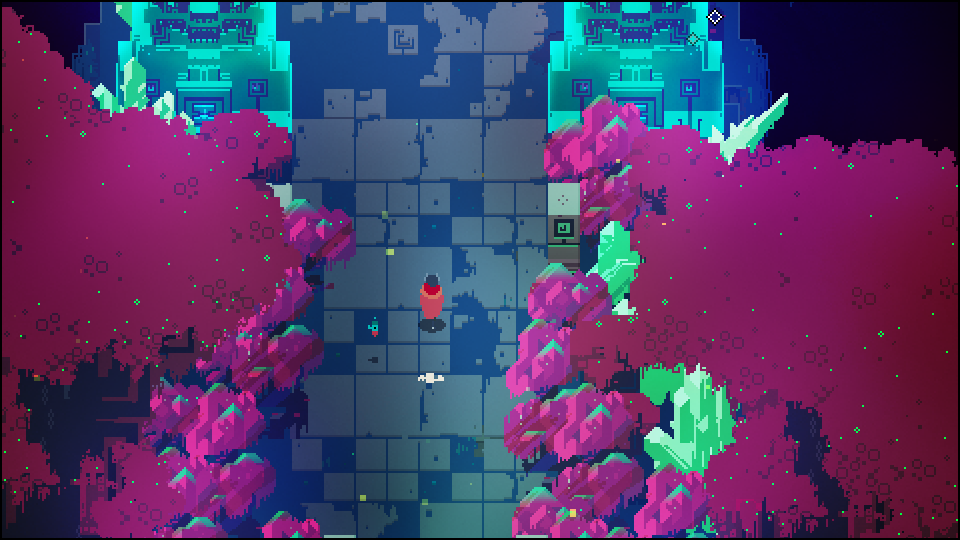player: (417, 273, 447, 332)
